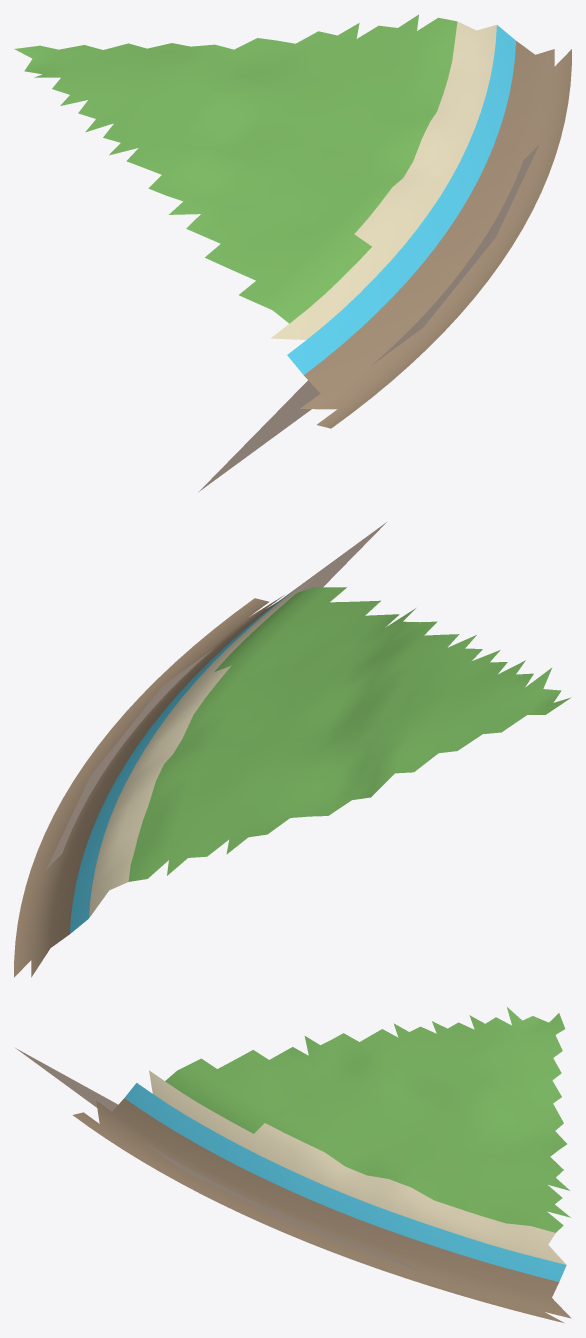
File: flagship_terrain_33.glb
3 views of the same model, one above another, from view 1: azimuth 30°, elevation 25°; view 2: azimuth 210°, elevation 25°; view 3: azimuth 270°, elevation 25° (orthographic). The views are drawn at different scales.
Parts seen in each view (by area): view 1: Terrain_33; view 2: Terrain_33; view 3: Terrain_33.
Part boxes in pixels (x1=…): Terrain_33: x1=14, y1=14, x2=571, y2=492; Terrain_33: x1=14, y1=522, x2=571, y2=977; Terrain_33: x1=15, y1=1007, x2=571, y2=1323.
Bounding box in the file's own units: 59.53 × 10.8 × 51.72.
